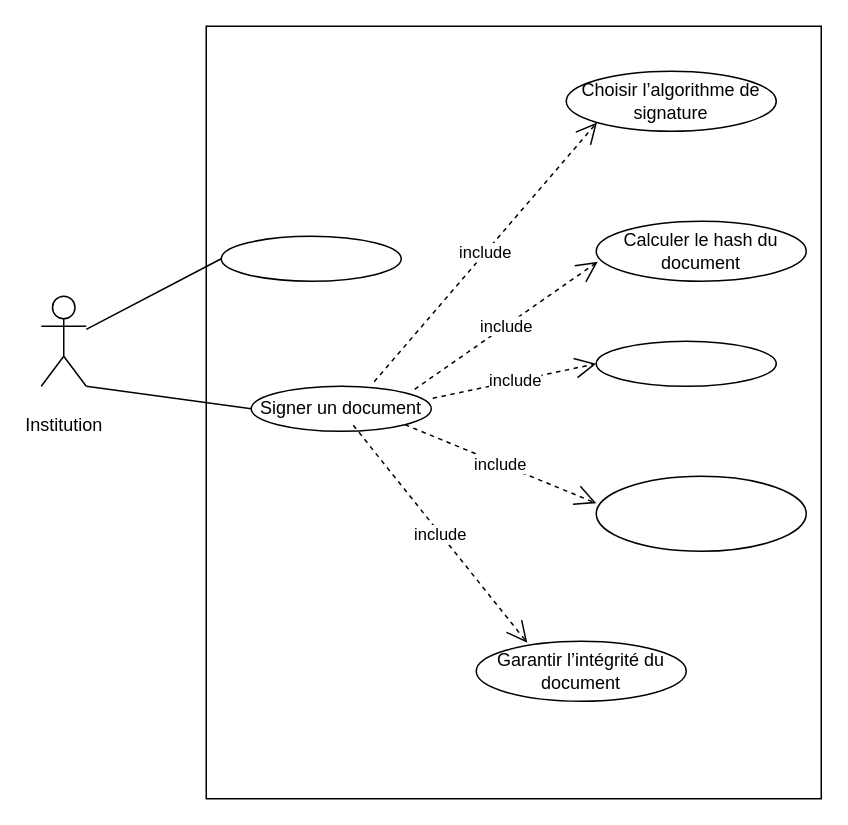
This 848x825 diagram has some shape labels left out. The shapes that lost their labels are listed below. From the top down, each one's centre as x and y in pixels, then its label:
pixel 310 258: Vérifier la signature
pixel 685 363: Générer QR Code
pixel 700 513: Stocker la signature dans les logs
